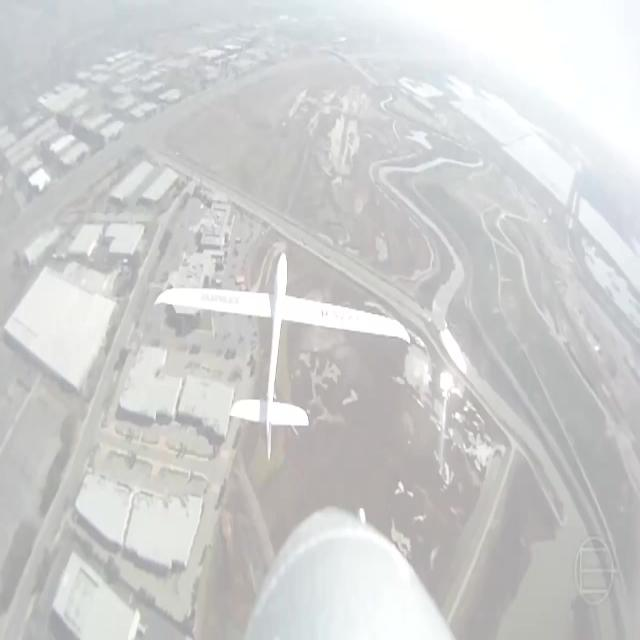iha: (153, 252, 411, 458)
